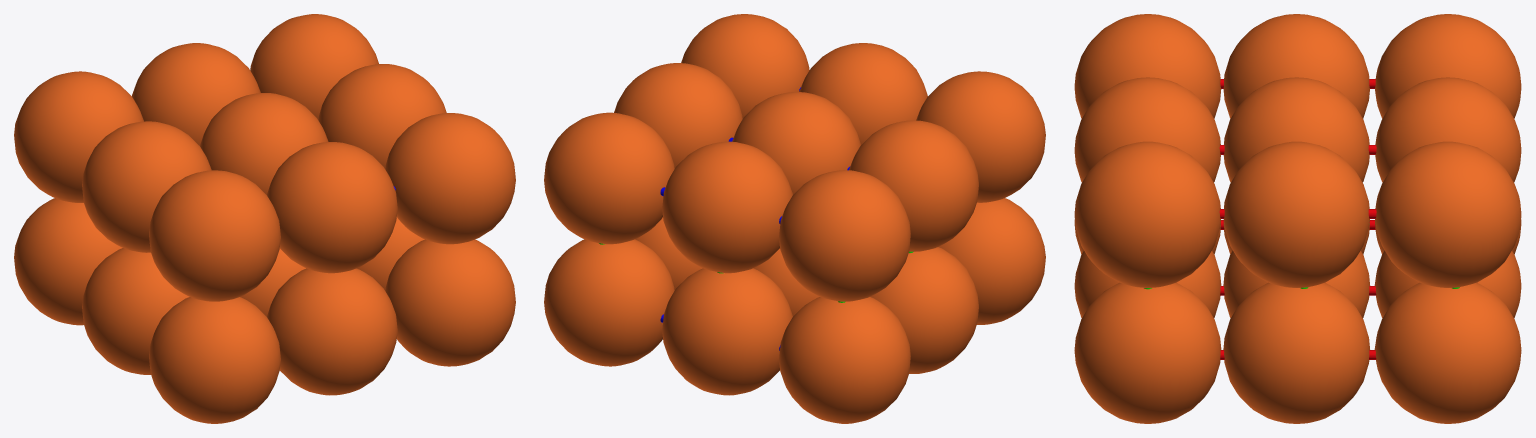
File: empaquetamiento simple.glb
3 renders of one model, left to right at view 1: azimuth 30°, elevation 25°; view 2: azimuth 150°, elevation 25°; view 3: azimuth 270°, elevation 25°, orthographic. The views are drawn at different scales.
Visible parts, largest first — view 1: Sphere.268_Sphere.022, Sphere.262_Sphere.020, Sphere.241_Sphere.008, Sphere.267_Sphere.021, Sphere.238_Sphere.001, Sphere.261_Sphere.019, Sphere.285_Sphere.183, Sphere.277_Sphere.058, Sphere.283_Sphere.181, Sphere.275_Sphere.032, Sphere.253_Sphere.155, Sphere.284_Sphere.182 (+4 smaller); view 2: Sphere.285_Sphere.183, Sphere.283_Sphere.181, Sphere.253_Sphere.155, Sphere.284_Sphere.182, Sphere.251_Sphere.154, Sphere.282_Sphere.179, Sphere.277_Sphere.058, Sphere.268_Sphere.022, Sphere.275_Sphere.032, Sphere.262_Sphere.020, Sphere.252_Sphere.017, Sphere.276_Sphere.057 (+4 smaller); view 3: Sphere.241_Sphere.008, Sphere.253_Sphere.155, Sphere.252_Sphere.017, Sphere.238_Sphere.001, Sphere.251_Sphere.154, Sphere.248_Sphere.015, Sphere.267_Sphere.021, Sphere.276_Sphere.057, Sphere.284_Sphere.182, Sphere.268_Sphere.022, Sphere.277_Sphere.058, Sphere.285_Sphere.183 (+3 smaller).
Part boxes in pixels (x1,y1,x2,y2): Sphere.268_Sphere.022: [149, 170, 280, 301]; Sphere.262_Sphere.020: [149, 297, 280, 423]; Sphere.241_Sphere.008: [385, 113, 515, 244]; Sphere.267_Sphere.021: [267, 142, 397, 273]; Sphere.238_Sphere.001: [385, 239, 515, 366]; Sphere.261_Sphere.019: [267, 268, 397, 395]; Sphere.285_Sphere.183: [14, 71, 143, 202]; Sphere.277_Sphere.058: [82, 121, 211, 252]; Sphere.283_Sphere.181: [14, 198, 122, 325]; Sphere.275_Sphere.032: [82, 248, 189, 374]; Sphere.253_Sphere.155: [250, 14, 378, 119]; Sphere.284_Sphere.182: [132, 43, 260, 145]; Sphere.285_Sphere.183: [779, 170, 910, 301]; Sphere.283_Sphere.181: [779, 297, 910, 423]; Sphere.253_Sphere.155: [544, 112, 674, 244]; Sphere.284_Sphere.182: [662, 141, 792, 273]; Sphere.251_Sphere.154: [544, 239, 674, 366]; Sphere.282_Sphere.179: [662, 268, 792, 395]; Sphere.277_Sphere.058: [849, 120, 978, 251]; Sphere.268_Sphere.022: [916, 71, 1045, 202]; Sphere.275_Sphere.032: [870, 247, 978, 373]; Sphere.262_Sphere.020: [938, 198, 1045, 324]; Sphere.252_Sphere.017: [614, 63, 742, 168]; Sphere.276_Sphere.057: [732, 92, 860, 194]; Sphere.241_Sphere.008: [1074, 141, 1220, 287]; Sphere.253_Sphere.155: [1375, 141, 1521, 287]; Sphere.252_Sphere.017: [1223, 141, 1369, 287]; Sphere.238_Sphere.001: [1074, 282, 1221, 423]; Sphere.251_Sphere.154: [1374, 282, 1521, 423]; Sphere.248_Sphere.015: [1223, 282, 1369, 423]; Sphere.267_Sphere.021: [1074, 77, 1220, 182]; Sphere.276_Sphere.057: [1223, 77, 1369, 182]; Sphere.284_Sphere.182: [1375, 77, 1521, 182]; Sphere.268_Sphere.022: [1074, 14, 1221, 118]; Sphere.277_Sphere.058: [1223, 14, 1369, 118]; Sphere.285_Sphere.183: [1375, 14, 1521, 118].
Size of the model in its own units: 1.47 by 0.97 by 1.46.
